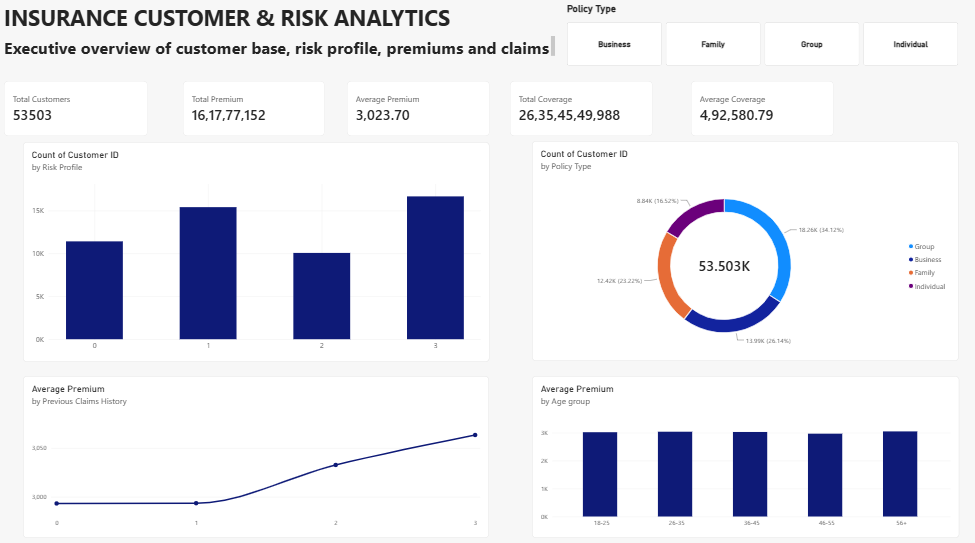

The dashboard page shown, as its layout file describes it:
{"tool":"powerbi","page":{"name":"Page 1","canvas":[1920,1080],"ordinal":0},"visuals":[{"type":"cardVisual","fields":{"Data":["Sheet1.Total Customers"]},"box":[8.6,170.6,283,108],"z":0},{"type":"cardVisual","fields":{"Data":["Sheet1.Total Premium"]},"box":[358.6,170.6,278.6,108],"z":1000},{"type":"cardVisual","fields":{"Data":["Sheet1.Average Premium"]},"box":[680.4,170.6,280.8,108],"z":2000},{"type":"cardVisual","fields":{"Data":["Sheet1.Total Coverage"]},"box":[1002.2,170.6,280.8,108],"z":3000},{"type":"cardVisual","fields":{"Data":["Sheet1.Average Coverage"]},"box":[1356.5,170.6,280.8,108],"z":4000},{"type":"clusteredColumnChart","fields":{"Category":["Sheet1.Risk Profile"],"Y":["CountNonNull(Sheet1.Customer ID)"]},"box":[45.2,290.3,916.1,432.3],"z":5000},{"type":"donutChart","fields":{"Category":["Sheet1.Policy Type"],"Y":["CountNonNull(Sheet1.Customer ID)"]},"box":[1045.4,289.4,838.1,432],"z":6000},{"type":"clusteredColumnChart","fields":{"Category":["Sheet1.Age group"],"Y":["Sheet1.Average Premium"]},"box":[1044.8,749.3,838.8,317.9],"z":7000},{"type":"lineChart","fields":{"Category":["Sheet1.Previous Claims History"],"Y":["Sheet1.Average Premium"]},"box":[44.8,749.3,914.9,317.9],"z":8000},{"type":"textbox","box":[8.6,17.3,902.9,64.8],"z":8001},{"type":"textbox","box":[8.6,82.1,1082.2,41],"z":8002},{"type":"advancedSlicerVisual","fields":{"Values":["Sheet1.Policy Type"]},"box":[1112.4,17.3,771.1,123.1],"z":8003}]}

Visuals, with their boxes in screenshot pixels (x1, y1, x2, y2), scaled from the page's 1920x1080 canvas onto the 975x543 screenshot:
cardVisual - Sheet1.Total Customers: [left=4, top=86, right=148, bottom=140]
cardVisual - Sheet1.Total Premium: [left=182, top=86, right=324, bottom=140]
cardVisual - Sheet1.Average Premium: [left=346, top=86, right=488, bottom=140]
cardVisual - Sheet1.Total Coverage: [left=509, top=86, right=652, bottom=140]
cardVisual - Sheet1.Average Coverage: [left=689, top=86, right=831, bottom=140]
clusteredColumnChart - Sheet1.Risk Profile x CountNonNull(Sheet1.Customer ID): [left=23, top=146, right=488, bottom=363]
donutChart - Sheet1.Policy Type x CountNonNull(Sheet1.Customer ID): [left=531, top=146, right=956, bottom=363]
clusteredColumnChart - Sheet1.Age group x Sheet1.Average Premium: [left=531, top=377, right=957, bottom=537]
lineChart - Sheet1.Previous Claims History x Sheet1.Average Premium: [left=23, top=377, right=487, bottom=537]
textbox: [left=4, top=9, right=463, bottom=41]
textbox: [left=4, top=41, right=554, bottom=62]
advancedSlicerVisual - Sheet1.Policy Type: [left=565, top=9, right=956, bottom=71]
